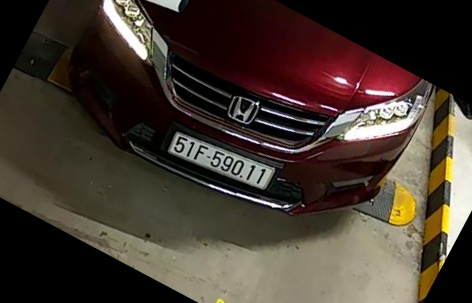plate: (161, 128, 285, 204)
